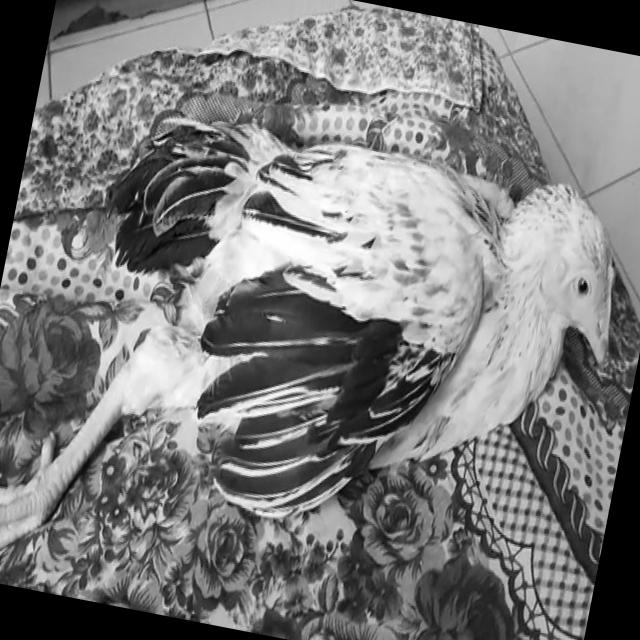leg stretching: (5, 47, 640, 640)
